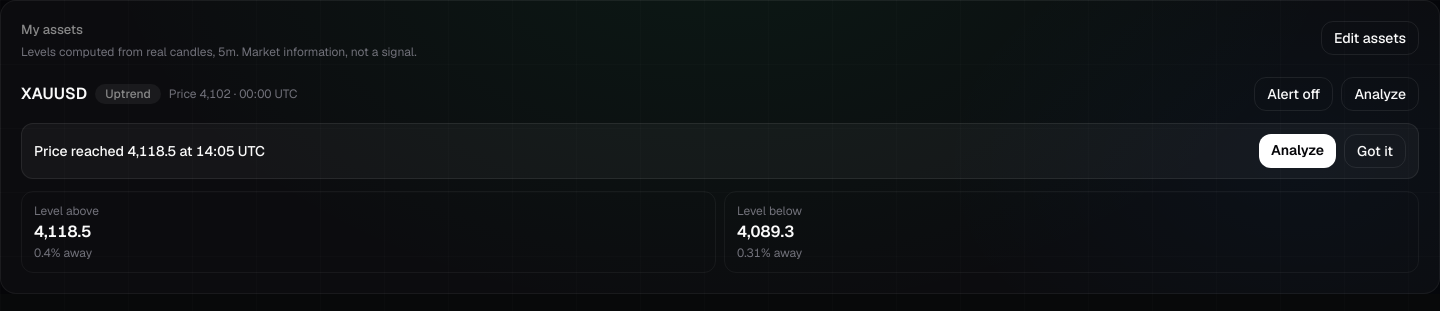
Test: MyAssets › alerta disparado: avisa no cartao, leva a analise com o ativo e some ao confirmar
Check: the text "Price reached 4,118.5 at 14:05 UTC" is shown, box x1=34 y1=141 x2=265 y2=161
Step 1. Click the button "Got it" → click(1375, 151), box x1=1344 y1=134 x2=1406 y2=168
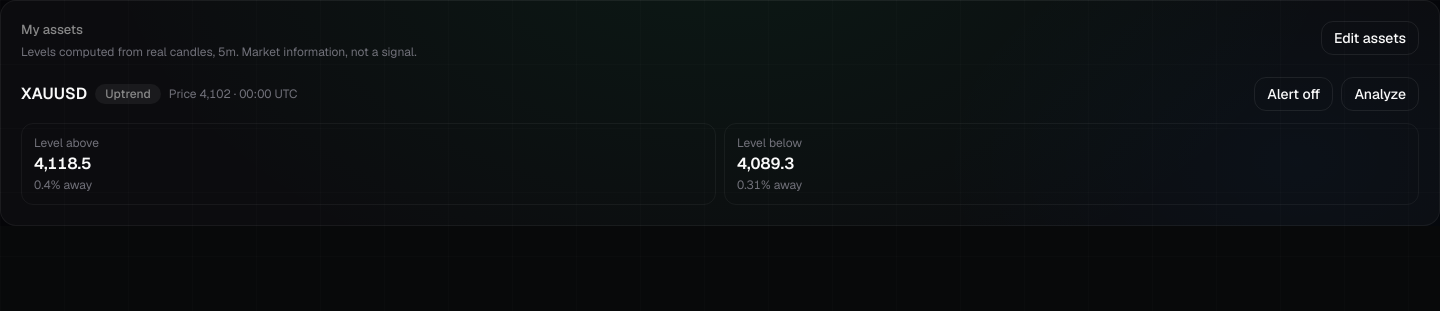
Check: the text "Price reached" is gone
